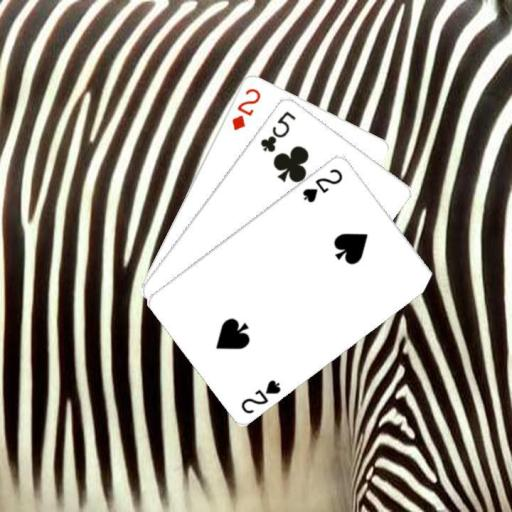2D: (229, 84, 263, 131)
2S: (300, 164, 345, 204), (238, 376, 283, 416)
5C: (257, 108, 297, 154)
